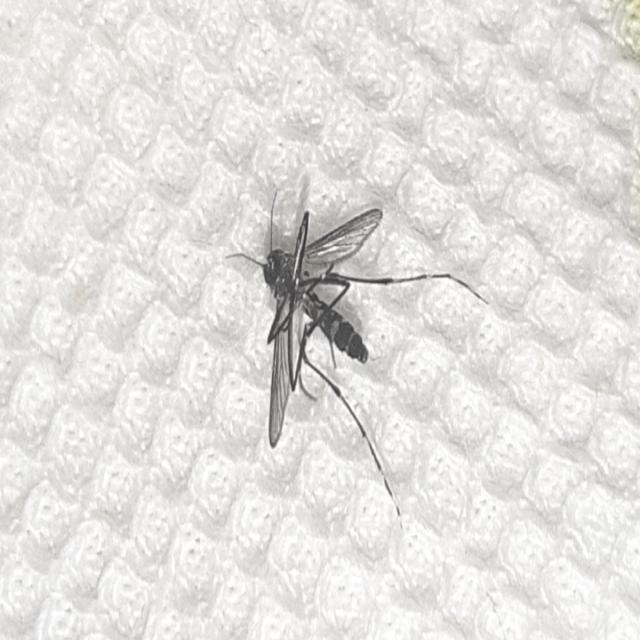albopictus: (206, 158, 477, 534)
